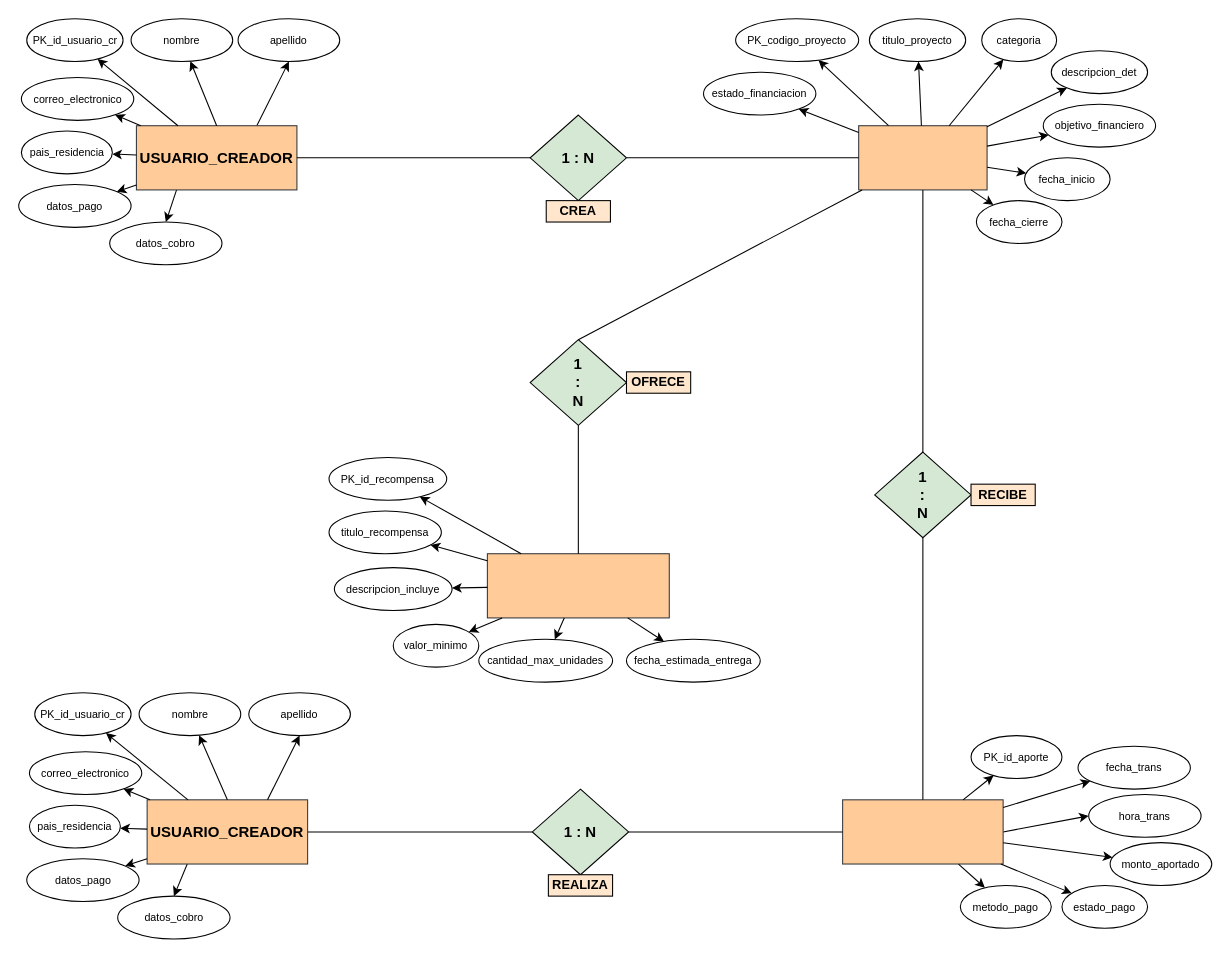
This 1231x958 diagram has some shape labels left out. The shapes that lost their labels are listed below. From the top down, each one's centre as x and y in pixels, then its label:
point 922,157: PROYECTO
point 577,585: RECOMPENSA_TIER
point 922,831: APORTE_PLEDGE
